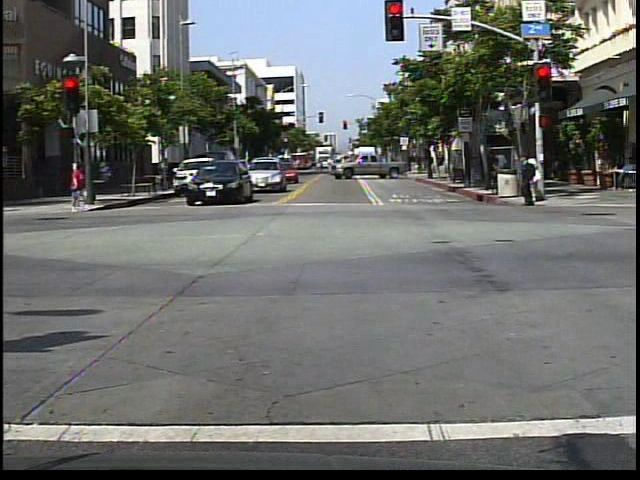person: (515, 152, 546, 211), (525, 145, 546, 201), (69, 160, 90, 216), (611, 149, 636, 193)
